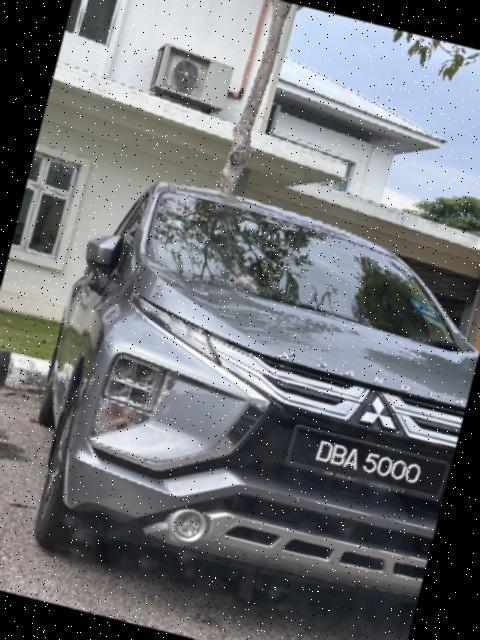DBA5000: (285, 426, 450, 503)
License_Plate: (285, 426, 450, 503)
car: (4, 161, 480, 640)
